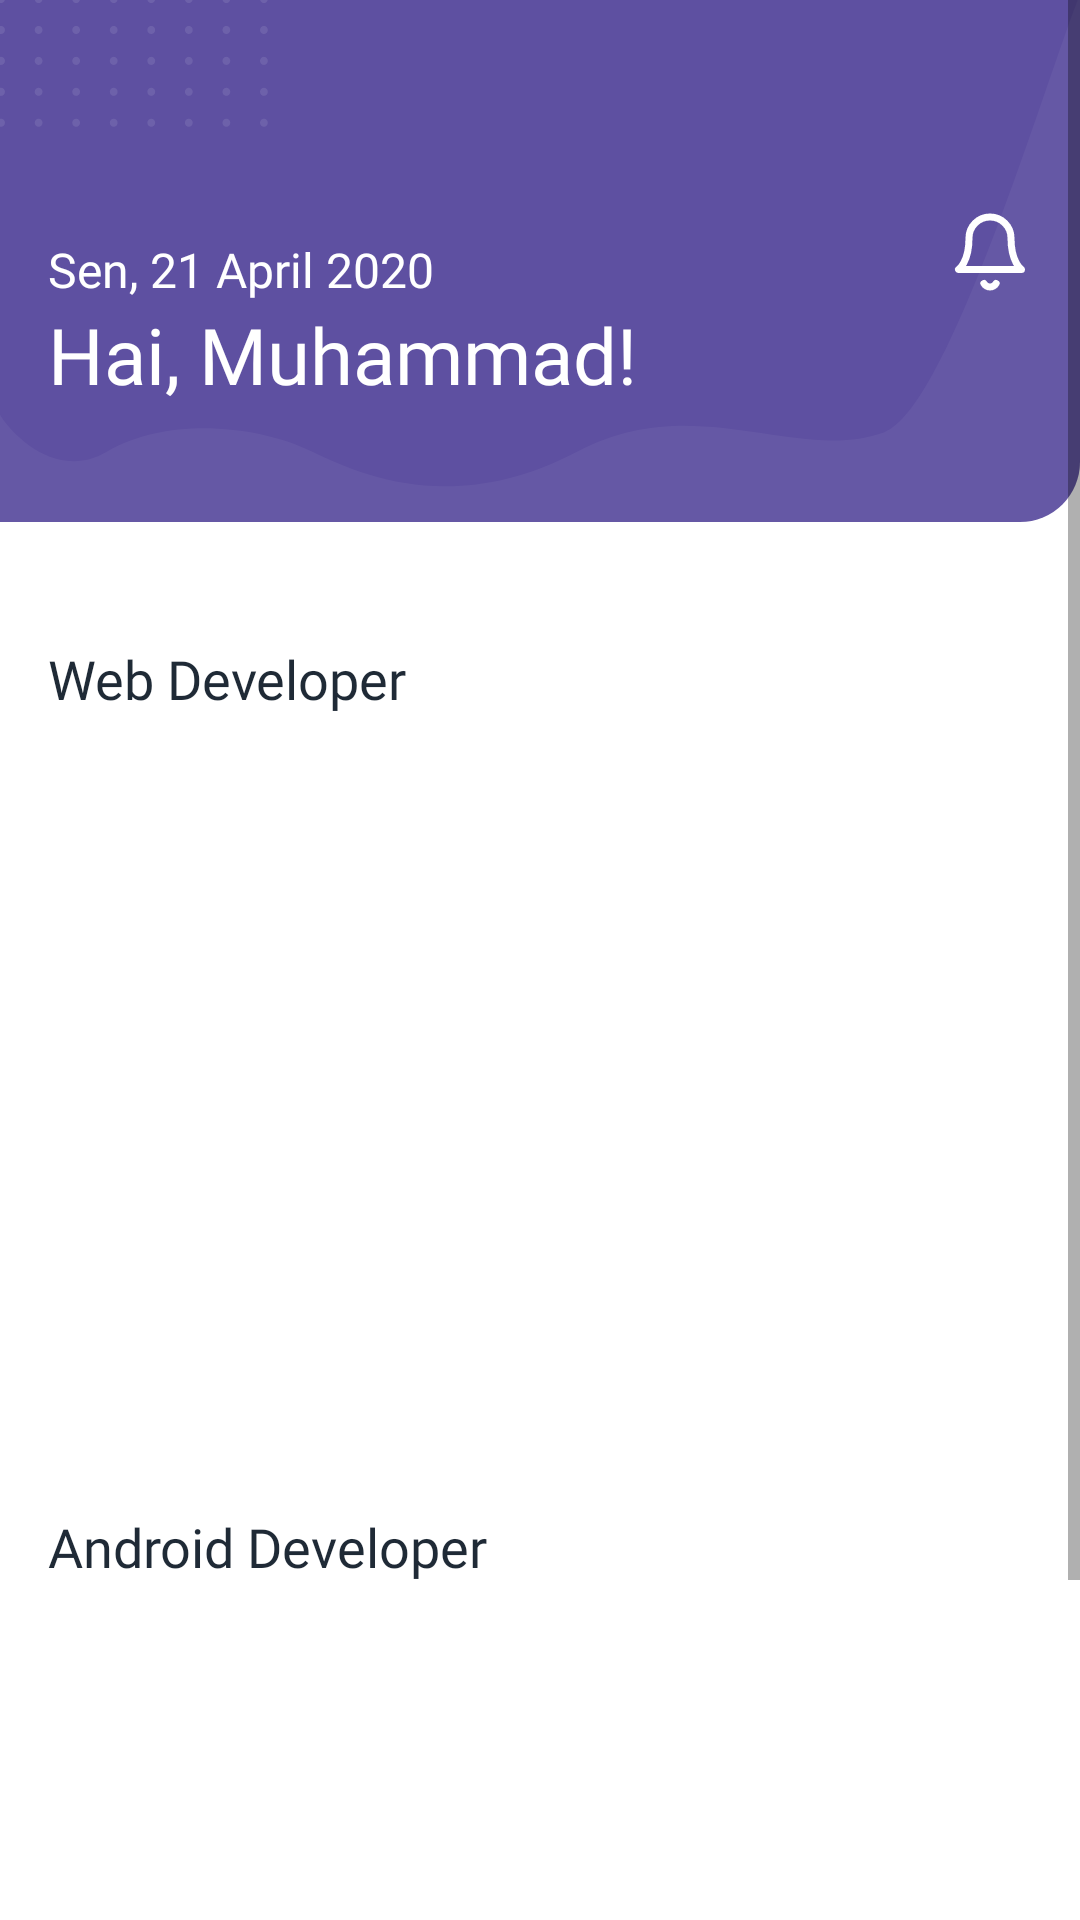

Screen size 1080 × 1920. Icon name, then its box in pixels as rect(x1, y1, x2, y2):
bell: rect(955, 213, 1025, 291)
